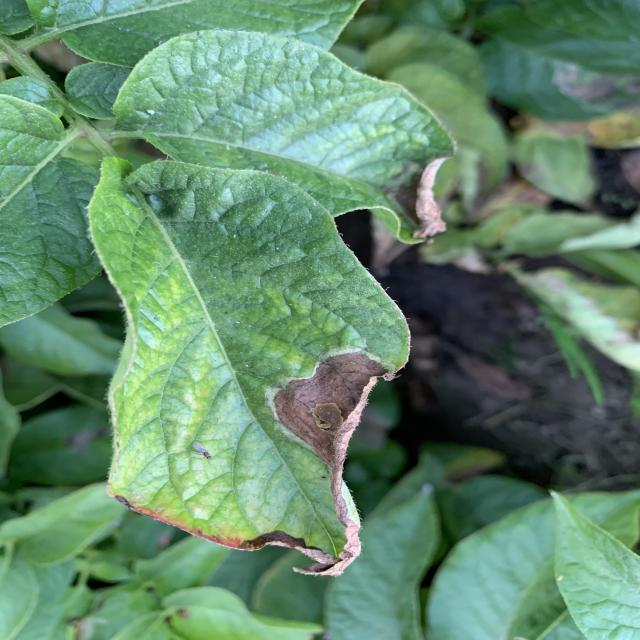lateblight: (272, 352, 387, 468), (238, 472, 360, 575), (413, 158, 448, 239)
